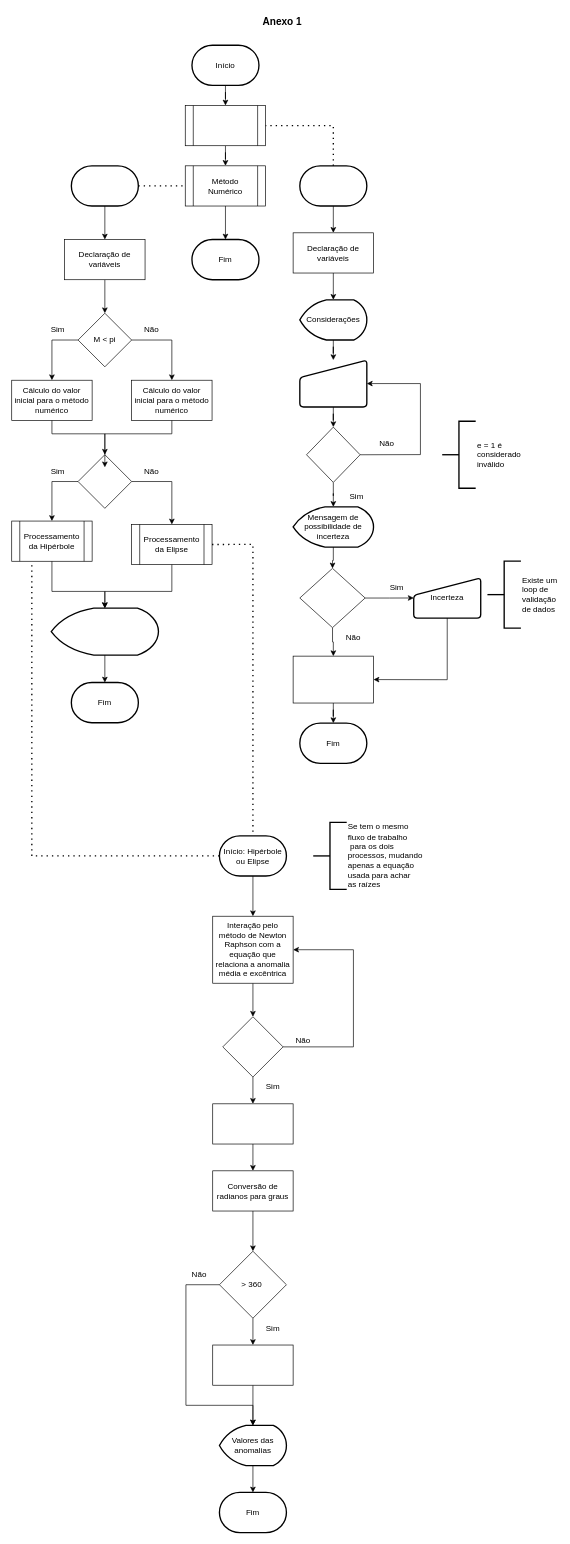
Some shapes in this 570 by 1544 pixel diagram are drawn without their labels. The shapes that lost their labels are listed below. From the top down, each one's centre as x and y in pixels, then its label:
(x=225, y=125): Entrada de Dados
(x=104, y=185): Início: Método Numérico
(x=333, y=185): Início: Entrada de Dados
(x=333, y=383): Input de dados
(x=333, y=454): Dados válidos?
(x=104, y=481): e > 1
(x=332, y=598): Alterar a incerteza?
(x=104, y=631): Saída de dados referente ao método númerico
(x=333, y=679): Conversão dos dados em graus para radianos
(x=252, y=1046): erro < = Incerteza?
(x=252, y=1123): Cálculo da anomalia verdadeira
(x=252, y=1364): Converter para valor equivalente
